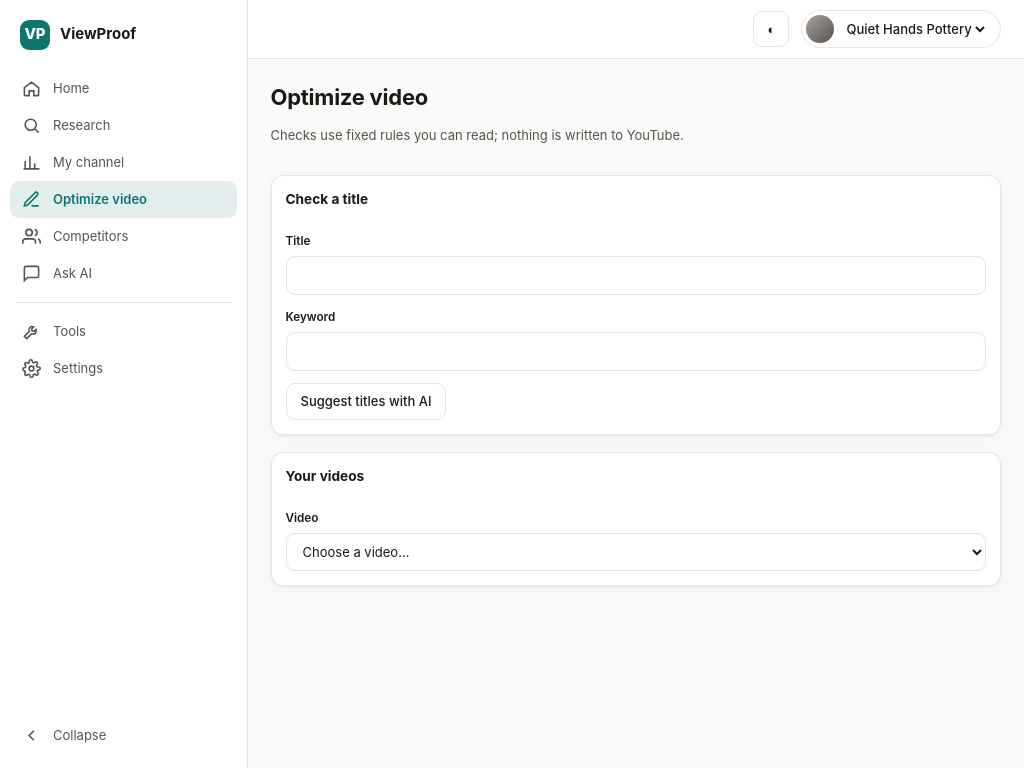
Test: Check a title › AI suggestions post the title and keyword and are labelled AI
Type "My old title here ok" into the field labelled "Title" at (636, 276), box [286,256,986,295]
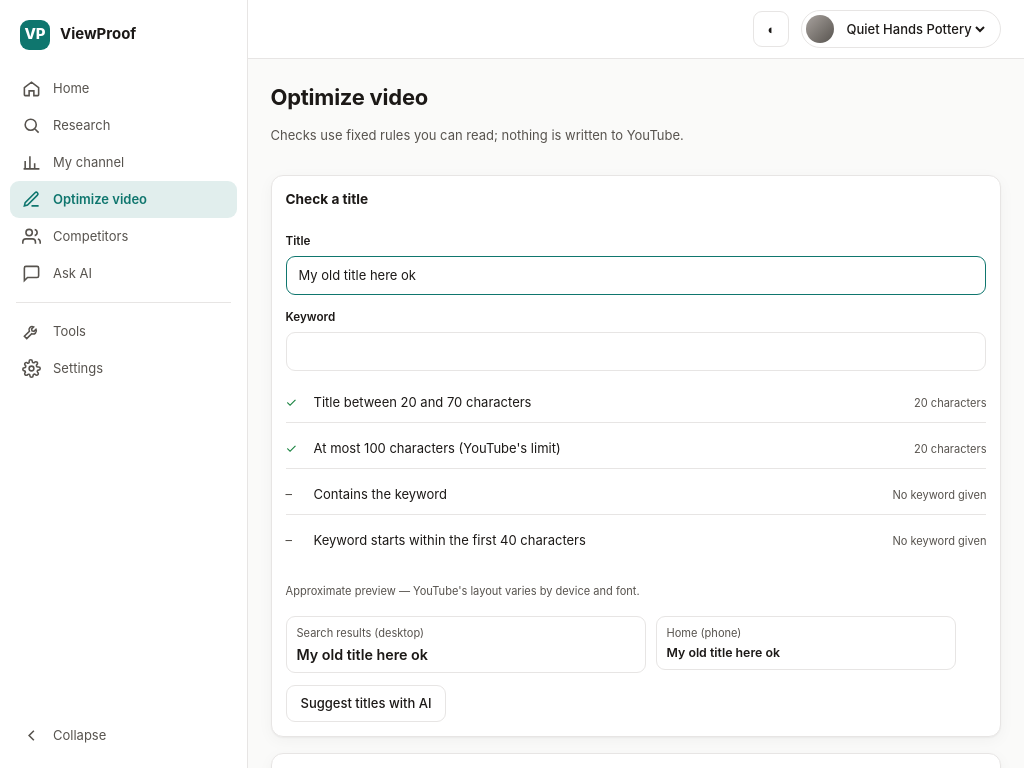
Type "ok" into the field labelled "Keyword" at (636, 352), box [286,332,986,371]
(page scrolled)
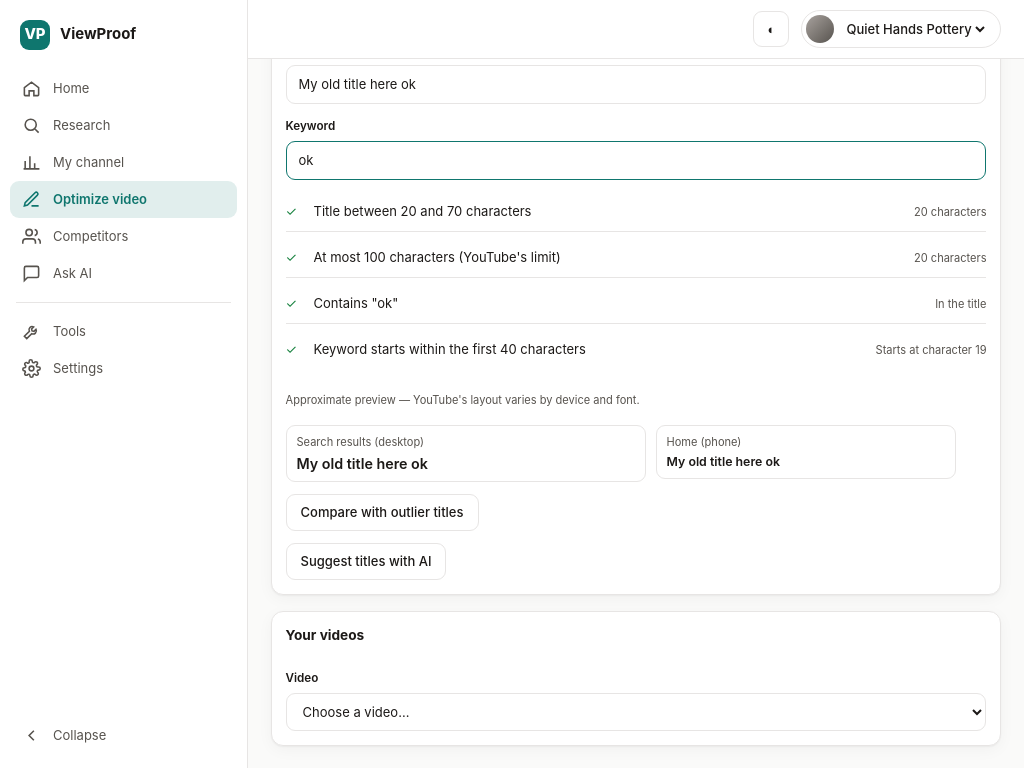
Click the button "Suggest titles with AI" at (366, 561), box [286,543,446,580]
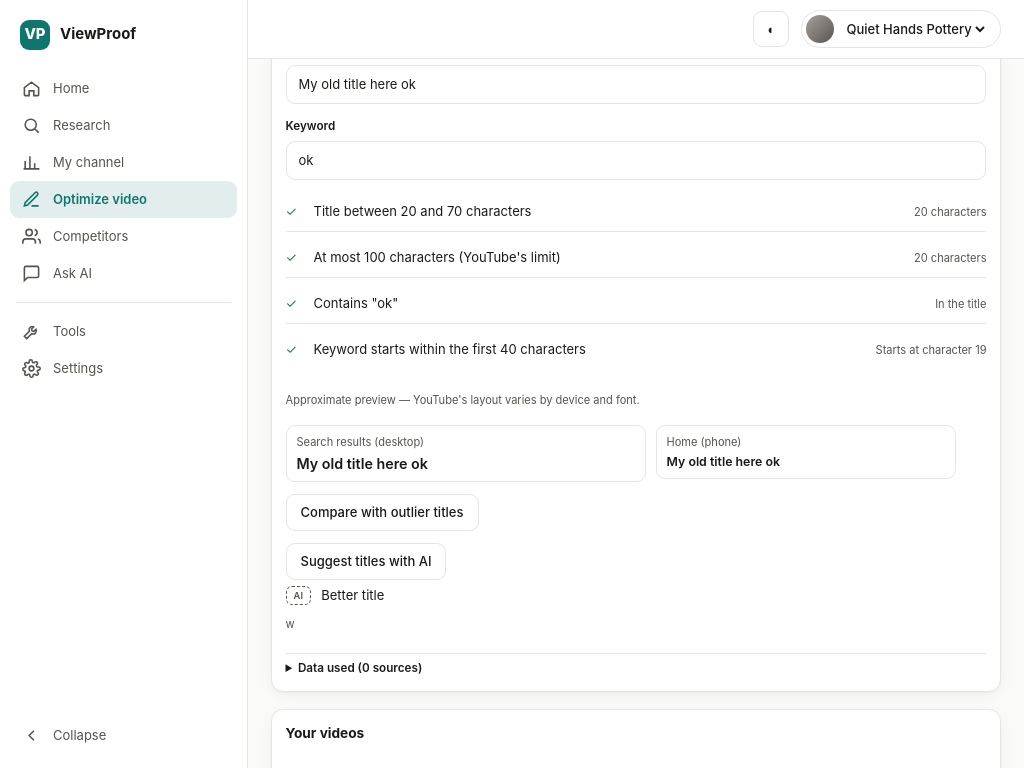
Now the text "Better title" is shown, box [321,587,384,603]
Now the text "AI" is shown, box [286,586,311,605]
